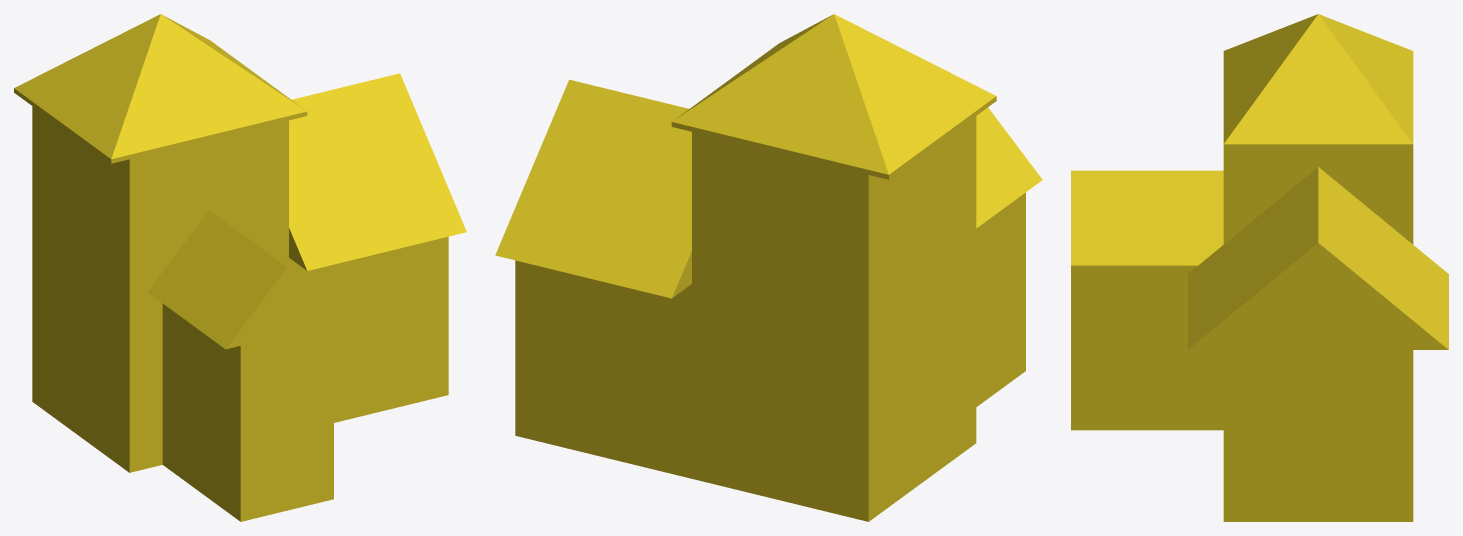
File: StadtYellow.glb
3 views of the same model, side by side, from view 1: azimuth 30°, elevation 25°; view 2: azimuth 150°, elevation 25°; view 3: azimuth 270°, elevation 25° (orthographic). The views are drawn at different scales.
Visible parts, largest first — view 1: Cube; view 2: Cube; view 3: Cube.
Part boxes in pixels (bbox=[...]): Cube: bbox=[14, 14, 466, 521]; Cube: bbox=[495, 14, 1042, 521]; Cube: bbox=[1071, 14, 1448, 521].
Size of the model in its own units: 0.7302 by 0.835 by 0.7254.
